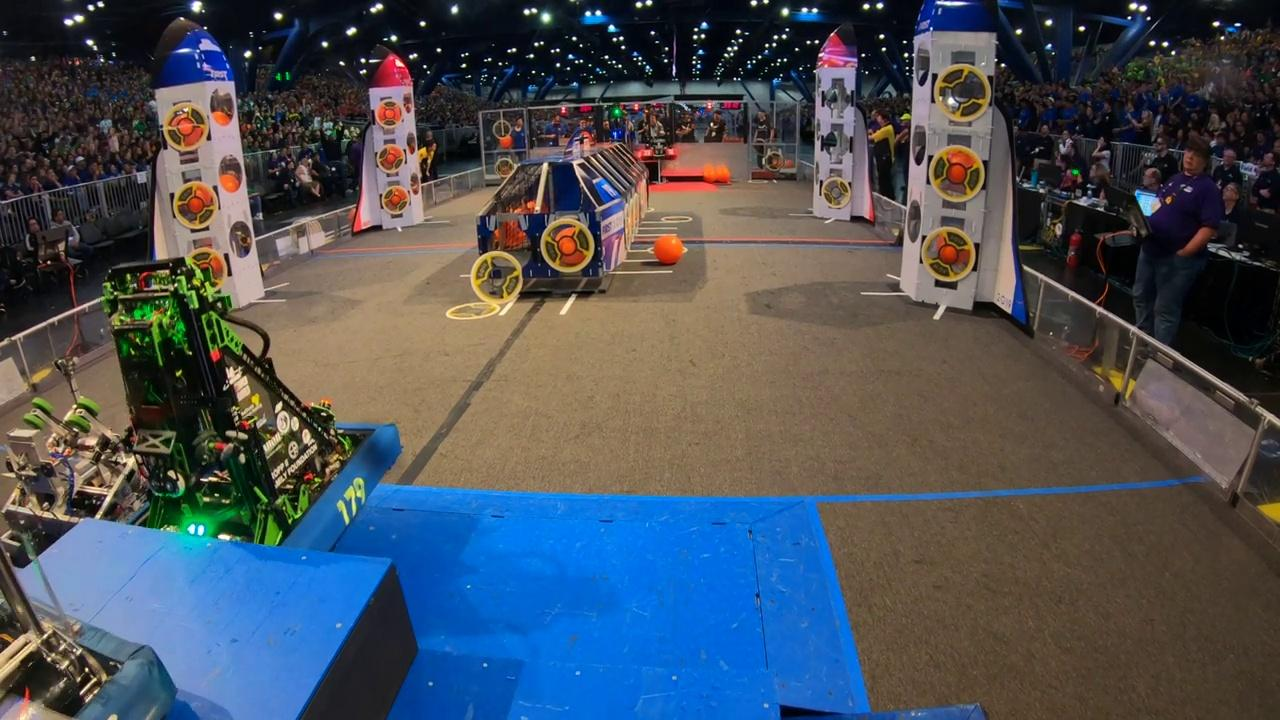robot: (22, 258, 406, 560)
